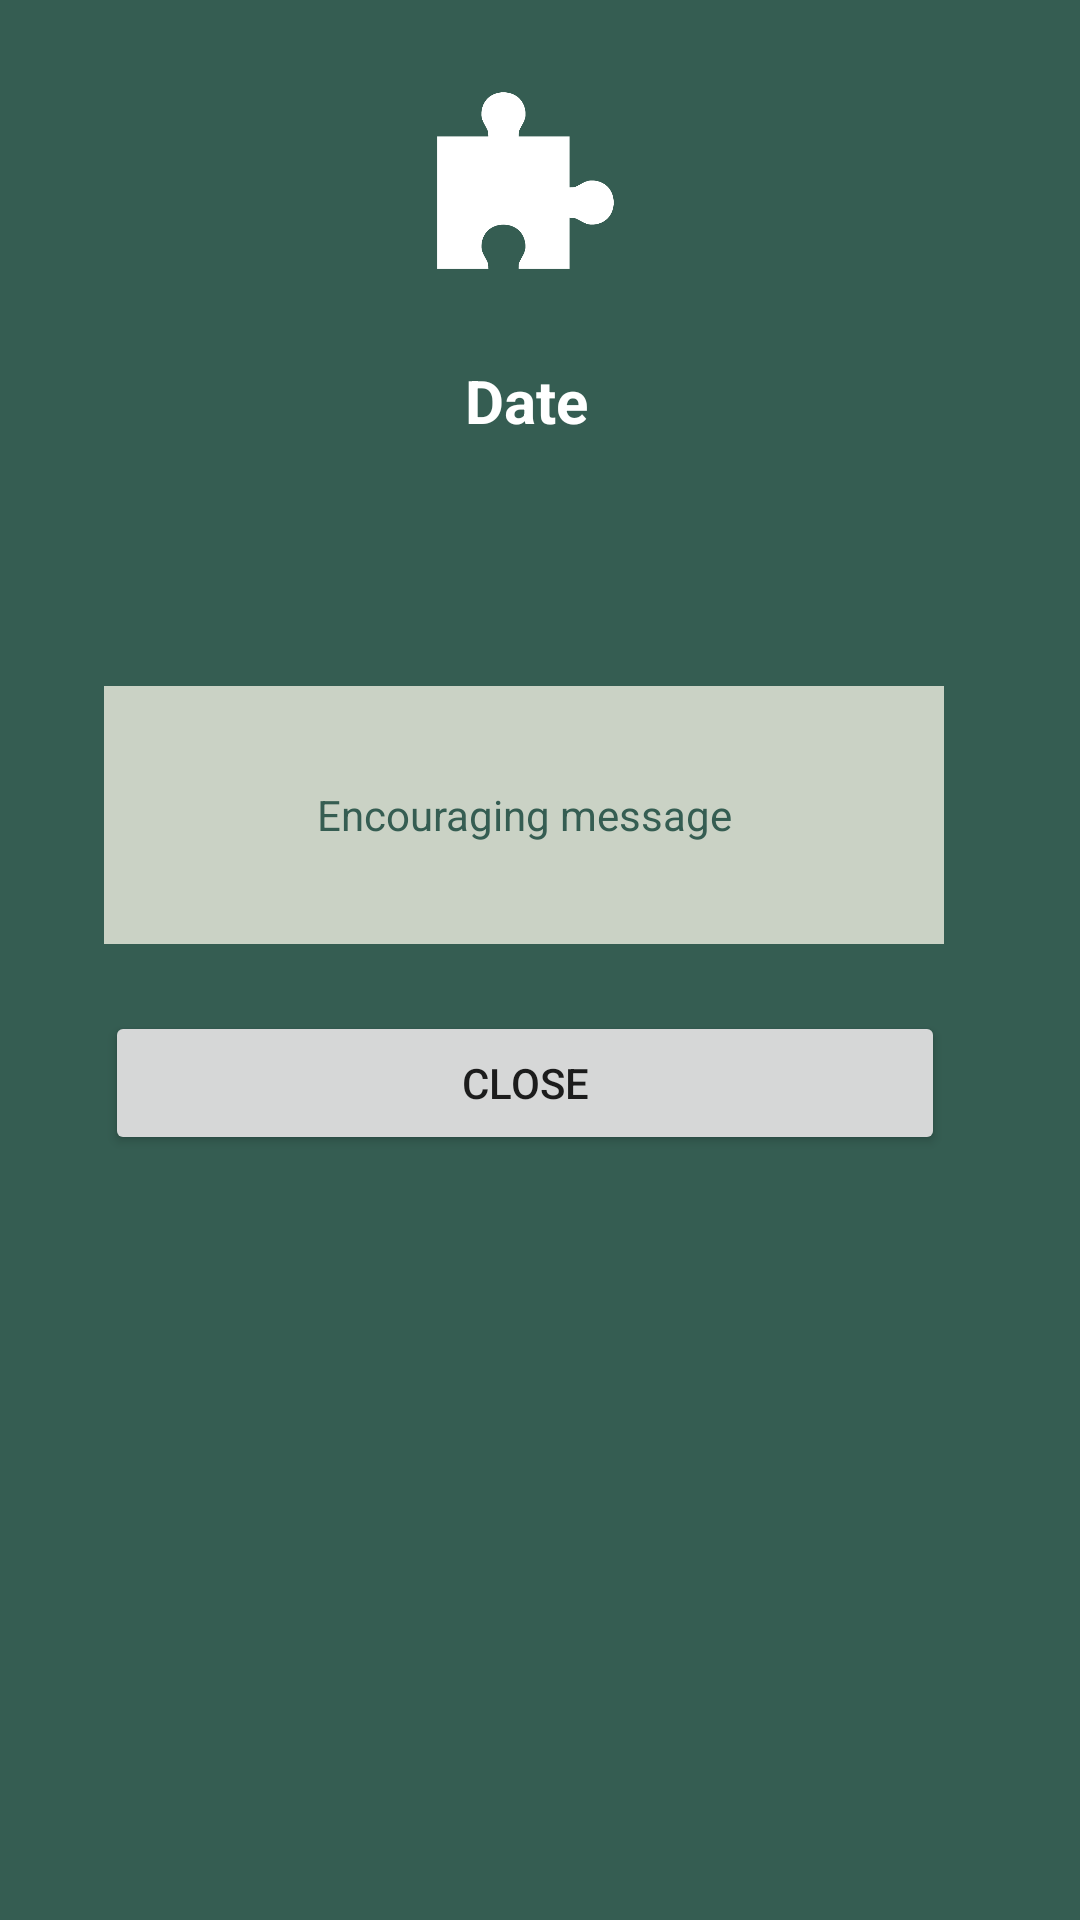

Named icons in this screenshot (1080×1920) and their centers, point (x, y):
plugin: point (525, 180)
